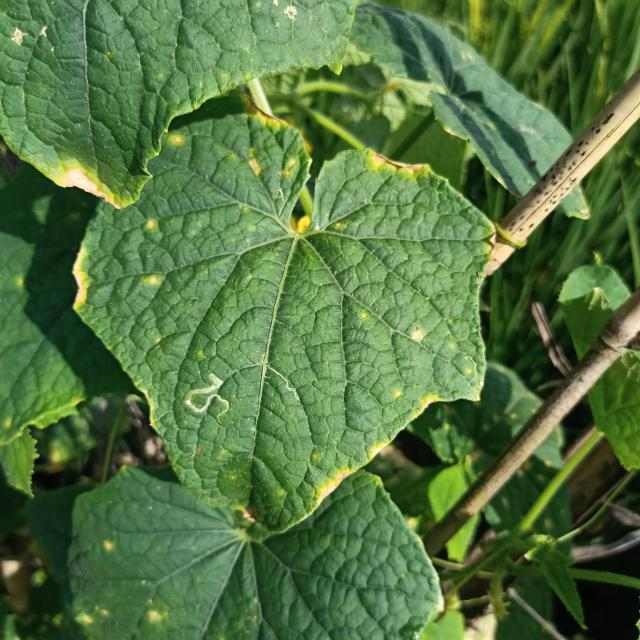disease_cucumber: (243, 112, 300, 182), (393, 382, 440, 412), (410, 326, 429, 342), (143, 217, 157, 232), (148, 274, 158, 288)
